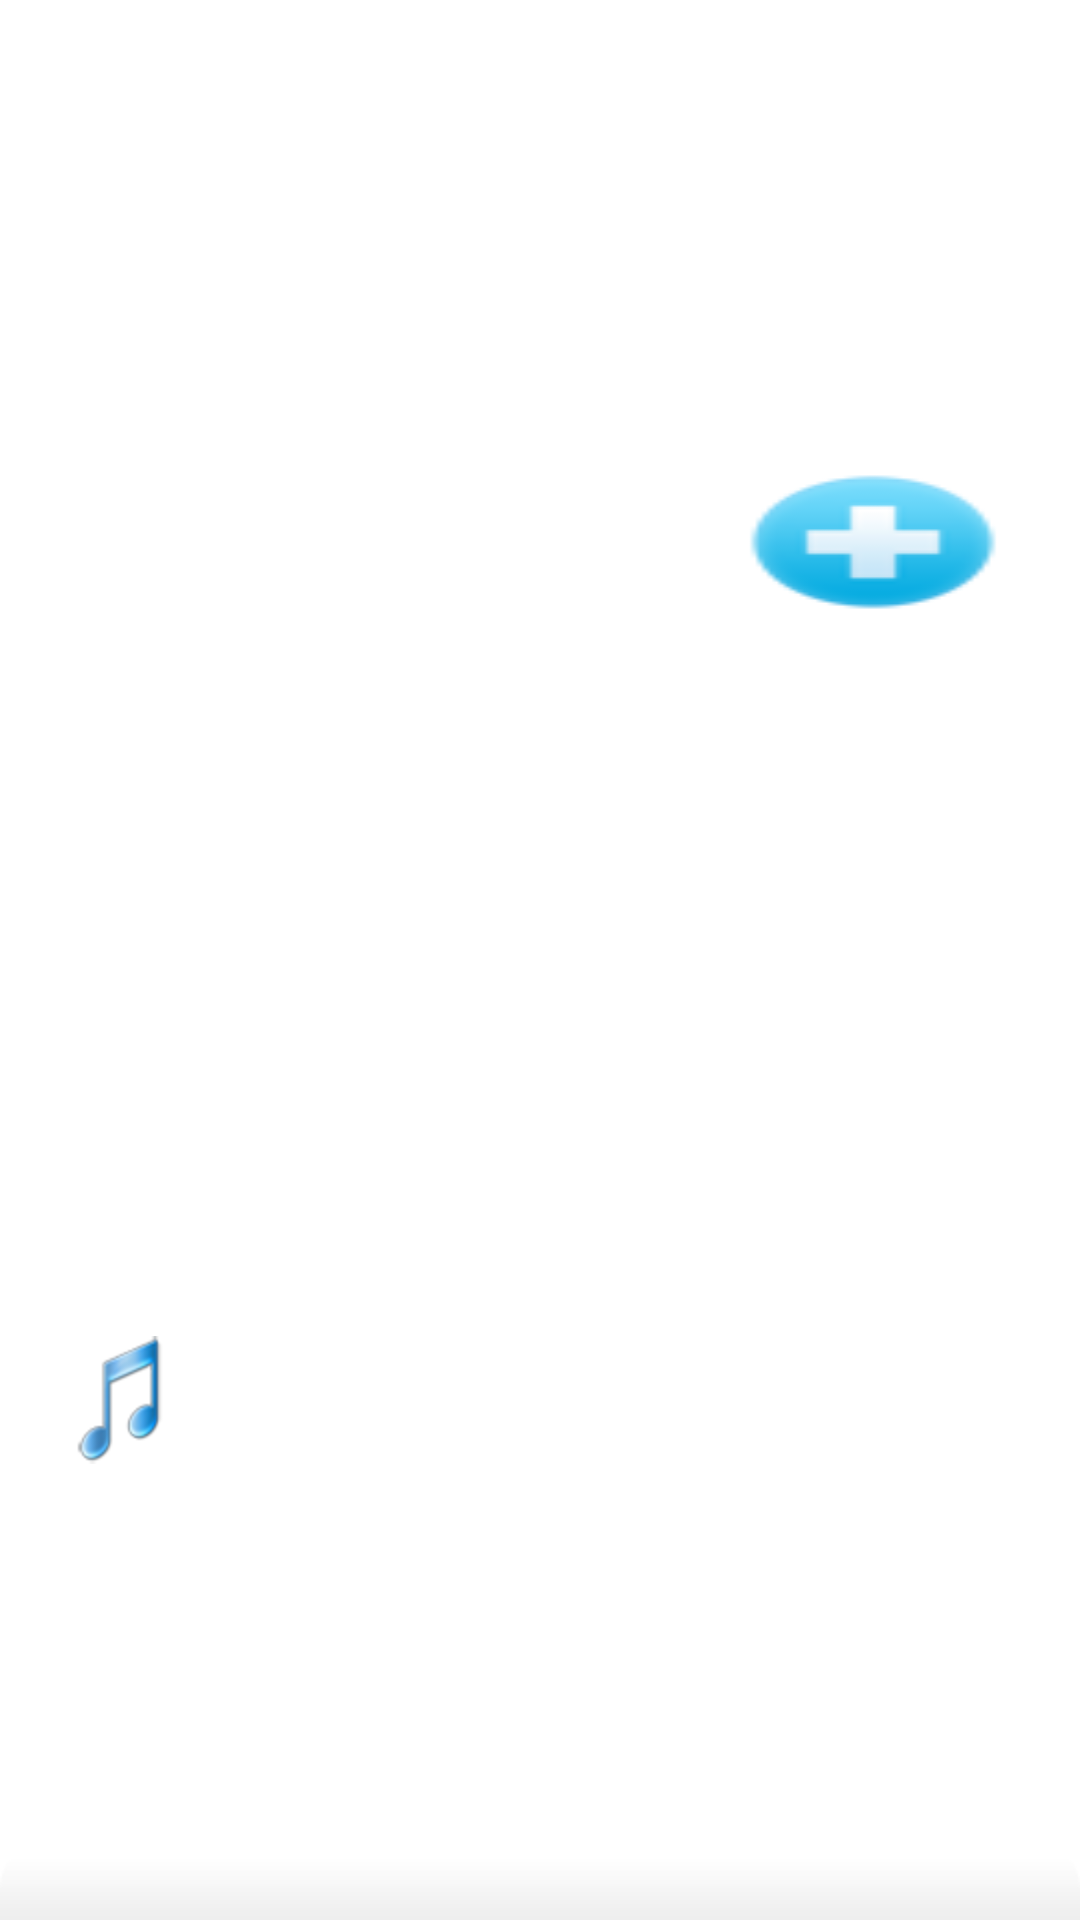

Screen size 1080w x 1920h. Icon name, then its center in pixels as [x,y]:
add: [873,542]
music note: [119,1398]
